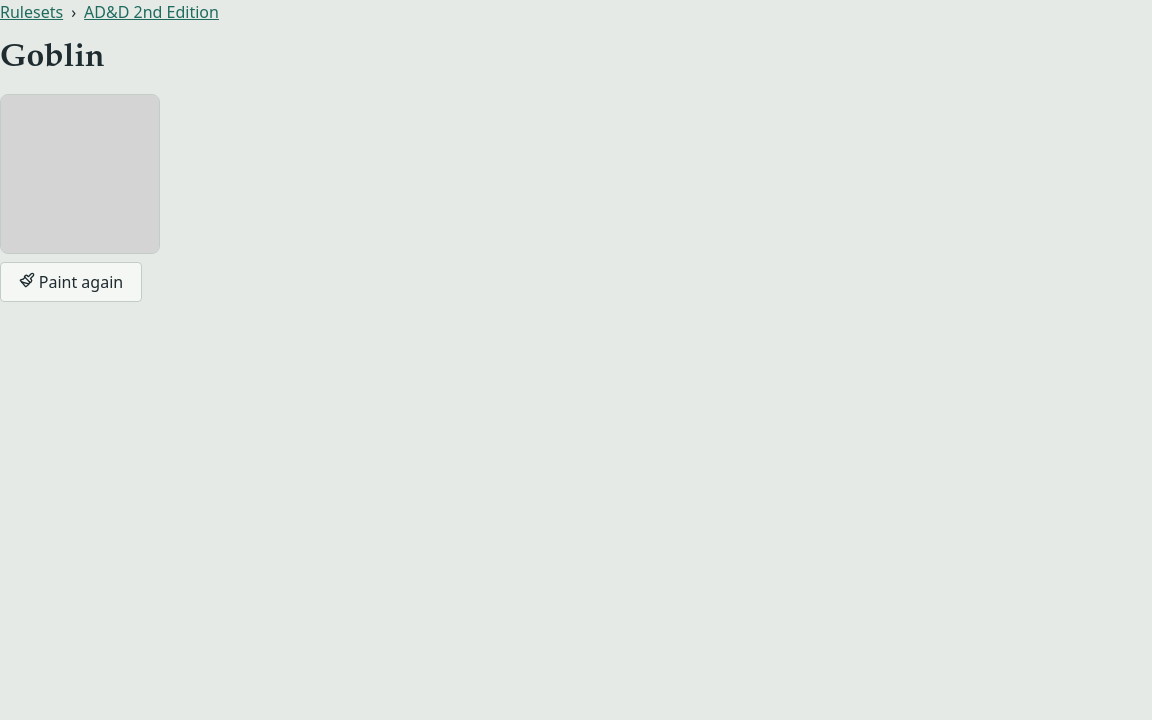
A monster's entry (DEL-275) › shows the picture of its kind, and an organiser may paint it again
Later steps or results of the test are not shown.
Click the button "Paint again": (71, 282) [0,262,142,302]
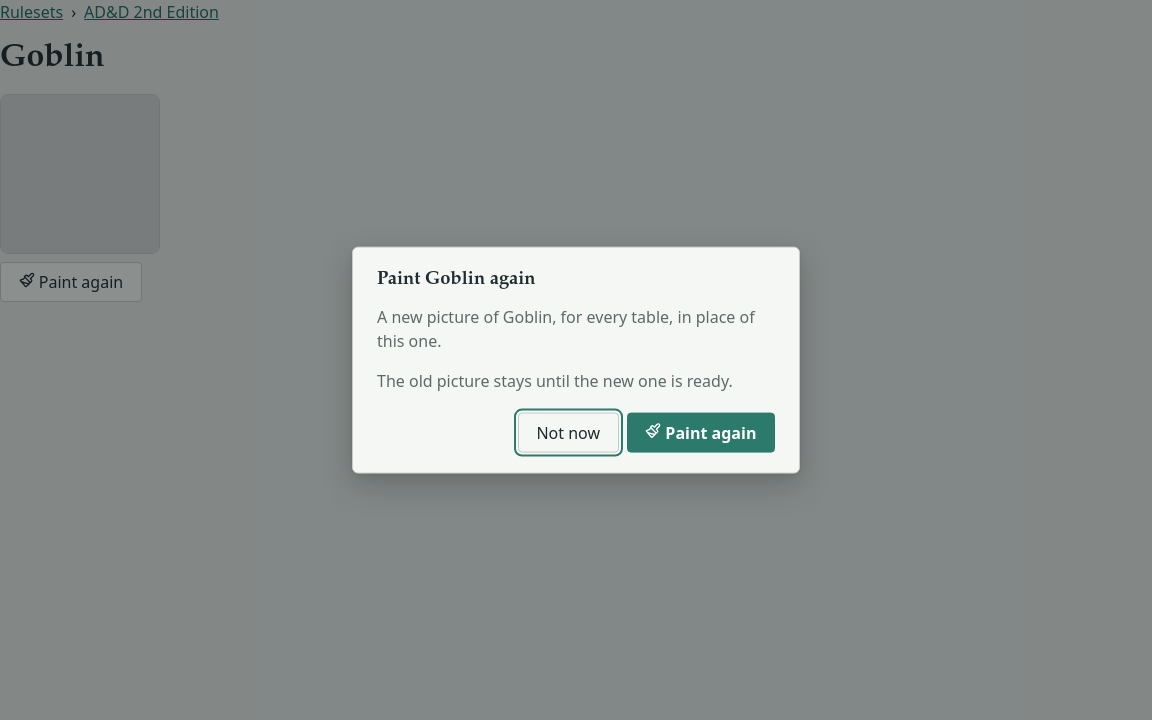
Result: the heading "Paint Goblin again" is shown at [377,271,536,289]
